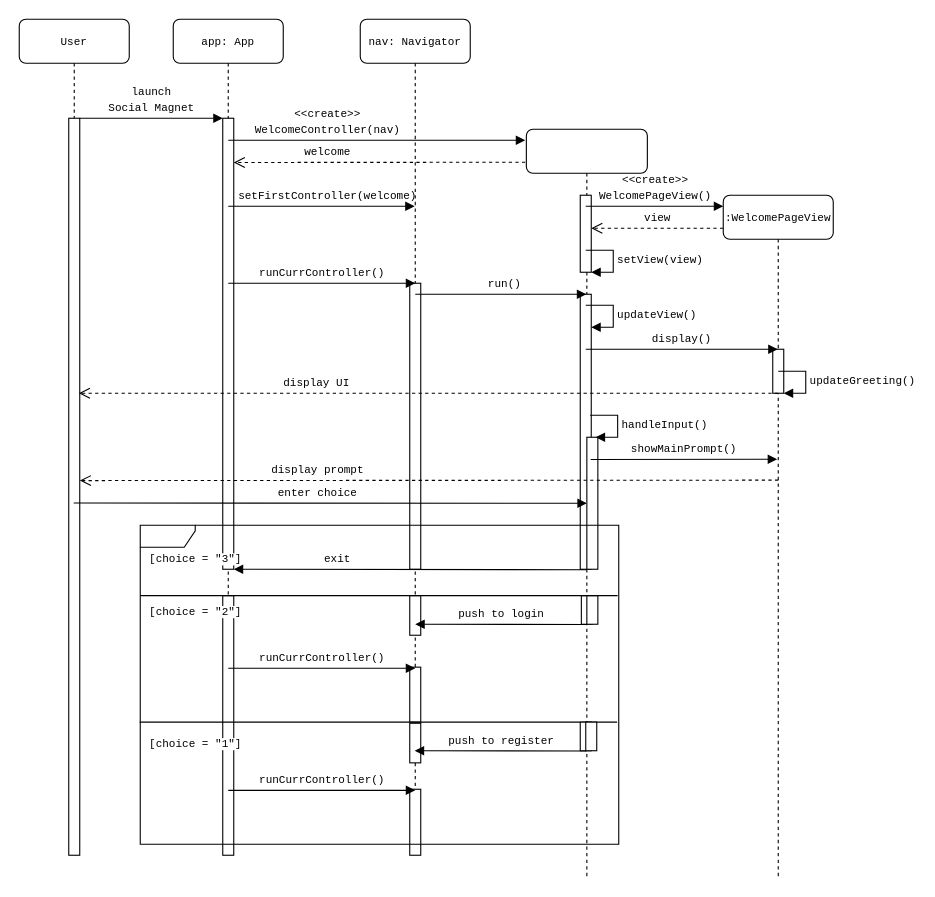
This 935x897 diagram has some shape labels left out. The box of each missing label's shape, as (x1, y1, x2, y2) in pixels:
:WelcomeController: (525, 128, 647, 877)
alt: (139, 524, 619, 844)
